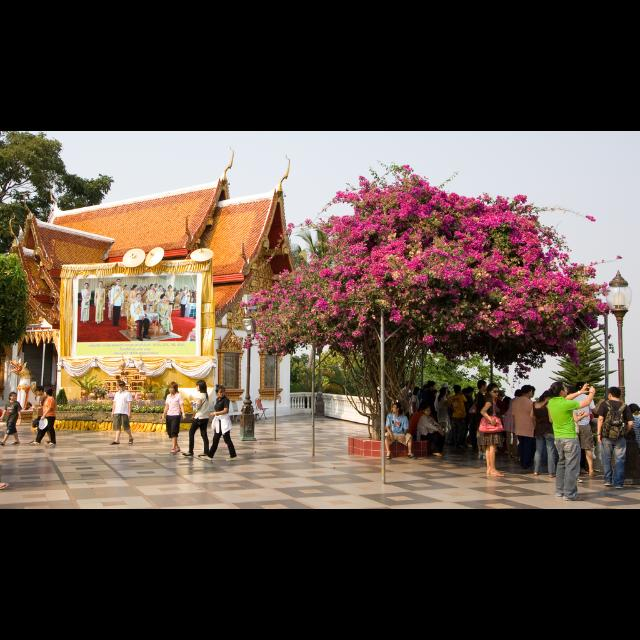Flower: (234, 166, 618, 374)
